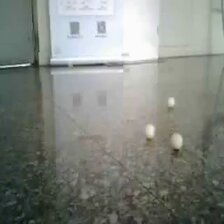tennis: (114, 120, 139, 157), (31, 86, 51, 113), (163, 78, 180, 102)
